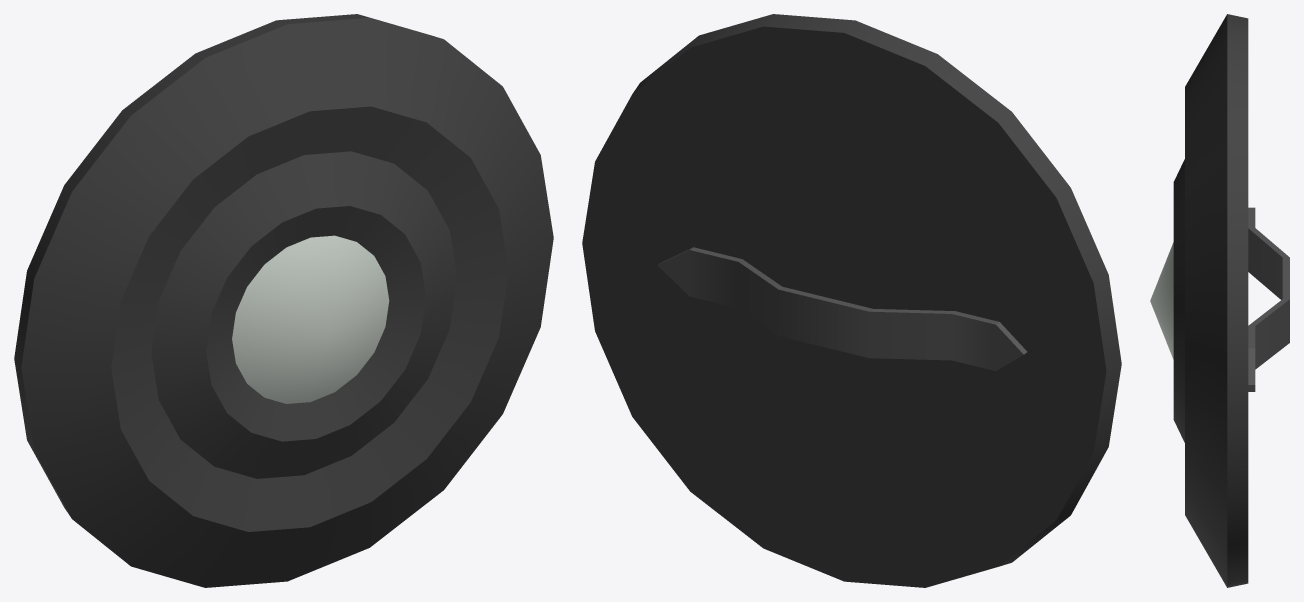
The model's file is Shield_7.fbx.
3 renders of one model, left to right at view 1: azimuth 30°, elevation 25°; view 2: azimuth 150°, elevation 25°; view 3: azimuth 270°, elevation 25°, orthographic. The views are drawn at different scales.
Visible parts, largest first — view 1: polySurface235; view 2: polySurface235; view 3: polySurface235.
Boxes of the visible parts, x1,y1,x2,y2 form: polySurface235: (14,14,553,587); polySurface235: (582,14,1121,587); polySurface235: (1150,14,1289,587).
Bounding box in the file's own units: 220 × 220 × 53.18.
